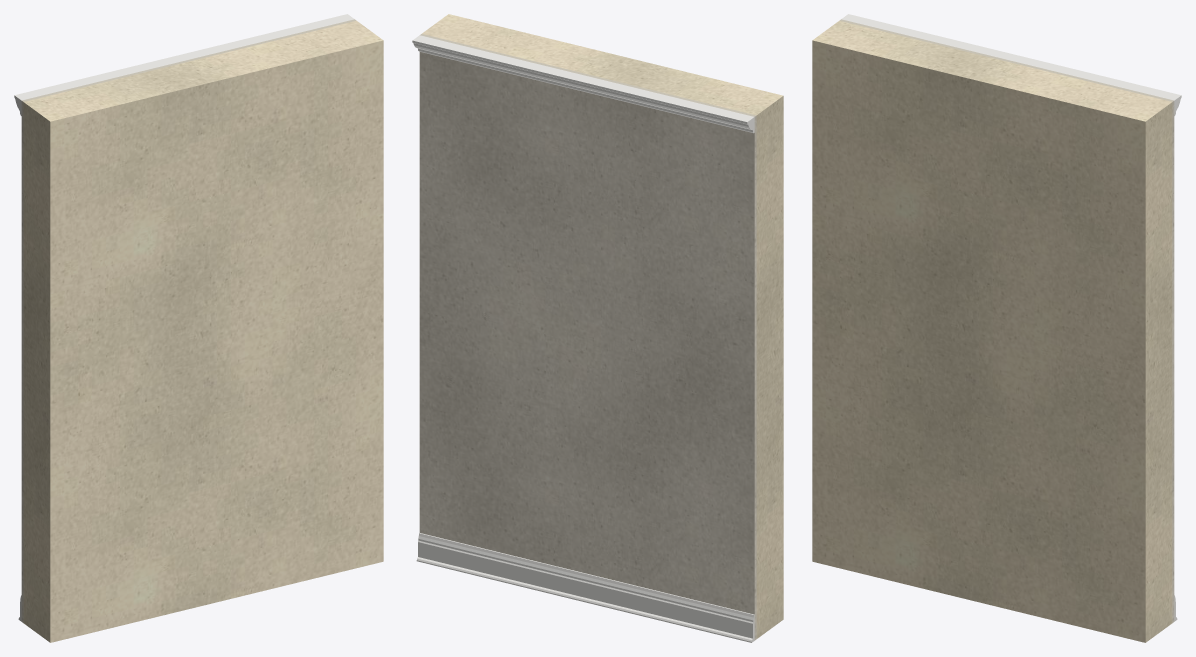
The model's file is wall_up_plain.glb.
The picture shows the model from 3 angles, left to right: view 1: azimuth 30°, elevation 25°; view 2: azimuth 150°, elevation 25°; view 3: azimuth 330°, elevation 25°; orthographic projection.
Visible parts, largest first — view 1: wall_up_plain_stucco, molduras, wall_up_plain_plaster; view 2: wall_up_plain_plaster, wall_up_plain_stucco, molduras; view 3: wall_up_plain_stucco, molduras, wall_up_plain_plaster.
Part boxes in pixels (x1,y1,x2,y2): wall_up_plain_stucco: (23,20,383,642); molduras: (14,14,354,621); wall_up_plain_plaster: (21,19,355,622); wall_up_plain_plaster: (419,34,756,640); wall_up_plain_stucco: (422,14,783,638); molduras: (412,35,754,642); wall_up_plain_stucco: (812,20,1172,642); molduras: (841,14,1181,621); wall_up_plain_plaster: (840,19,1174,622).
Bounding box in the file's own units: 2 × 2.99 × 0.375.
3 materials, 2 textured.
